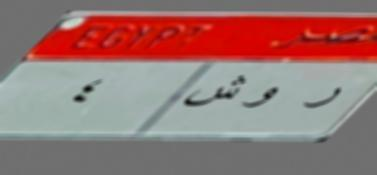4: (71, 74, 104, 114)
raa: (302, 84, 343, 117)
sheen: (184, 74, 245, 109)
waw: (242, 84, 285, 114)
